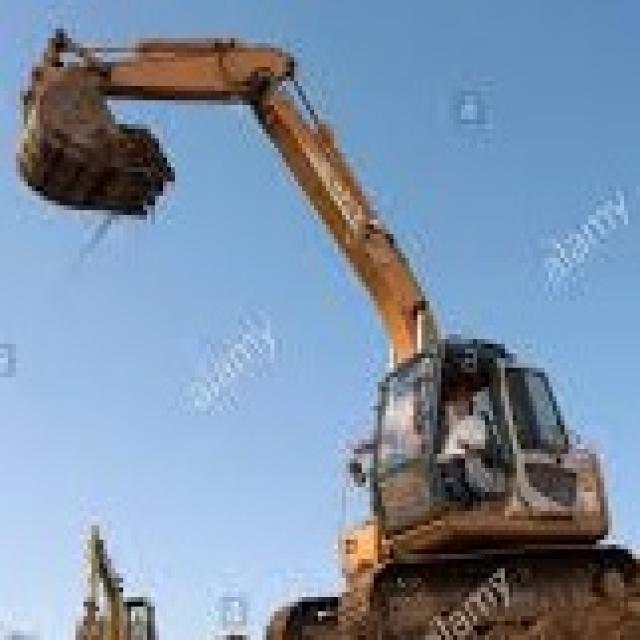excavator: (315, 315, 640, 640)
